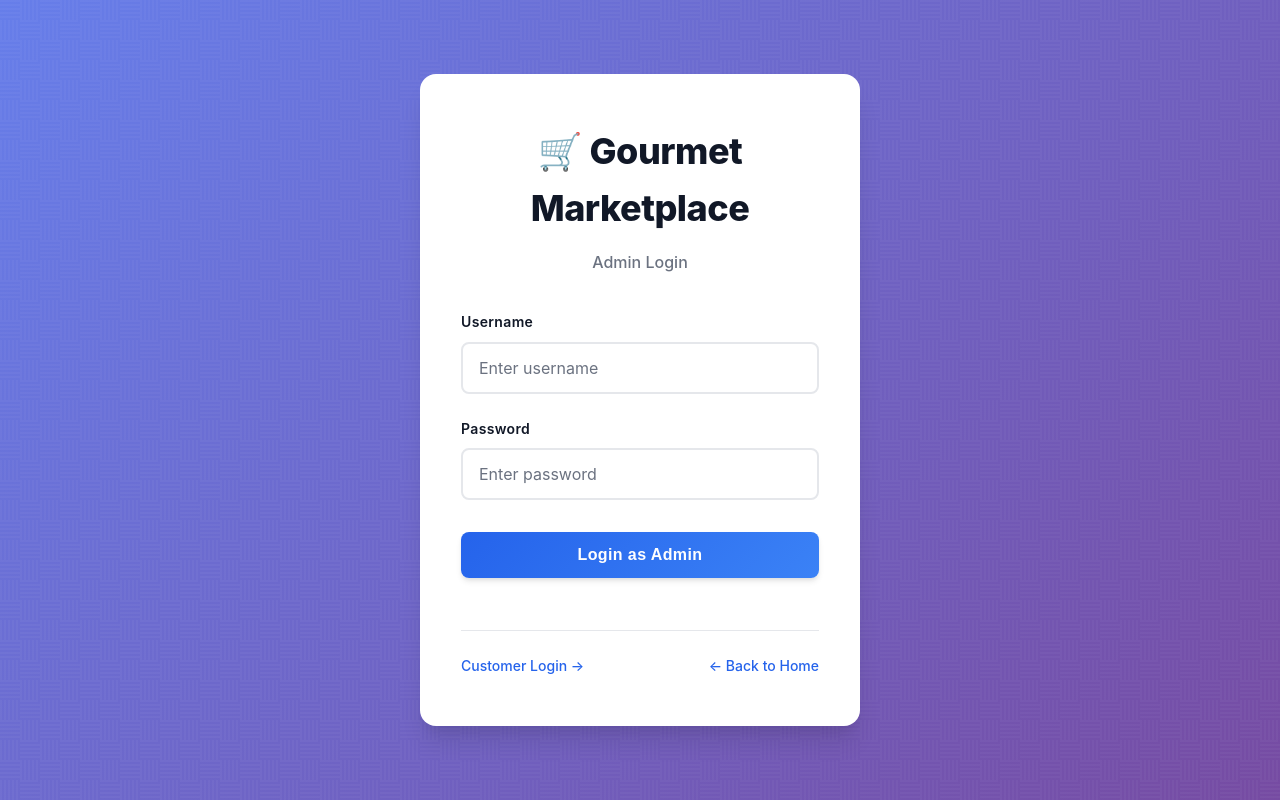
AdminLogin Component › should show error on failed login
Type "test" into the field with placeholder "Enter username". click: point(640, 368)
box: [461,342,819,394]
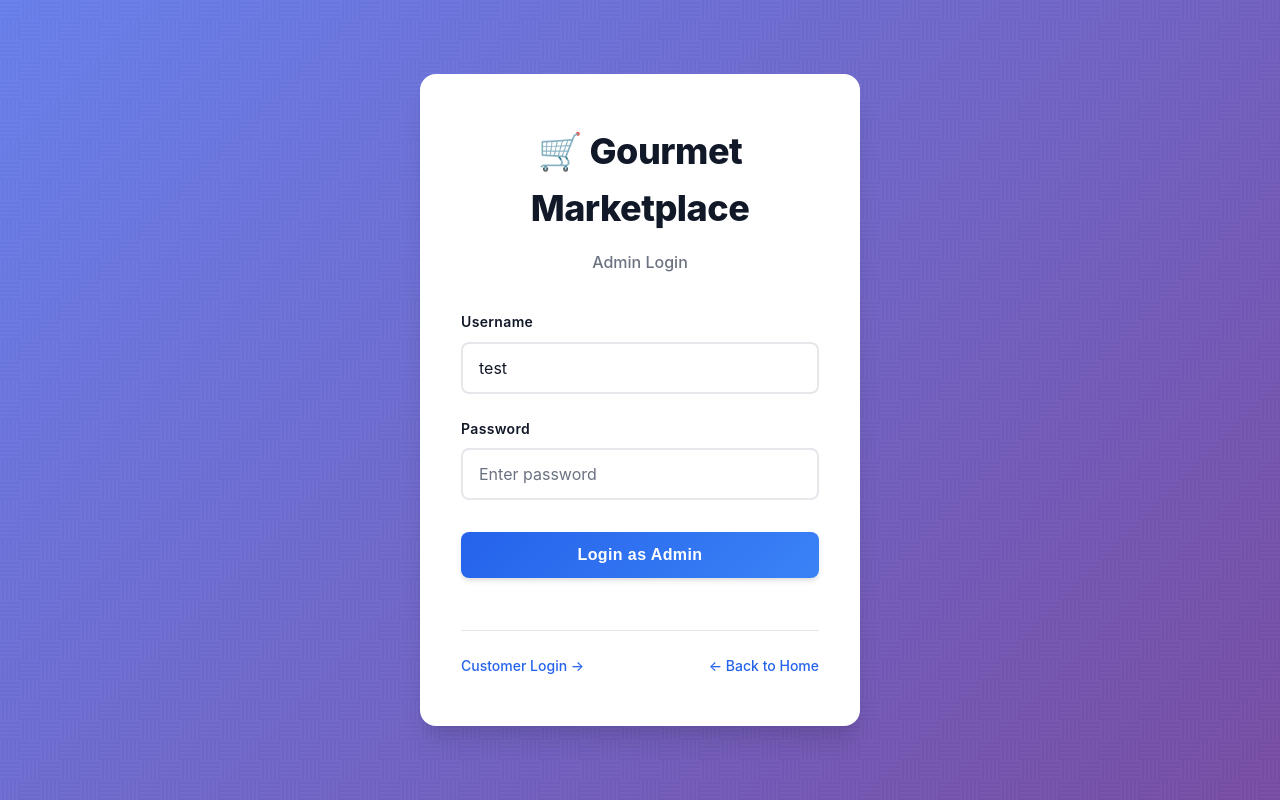
Type "wrong" into the password field with placeholder "Enter password". click: point(640, 474)
box: [461,448,819,500]
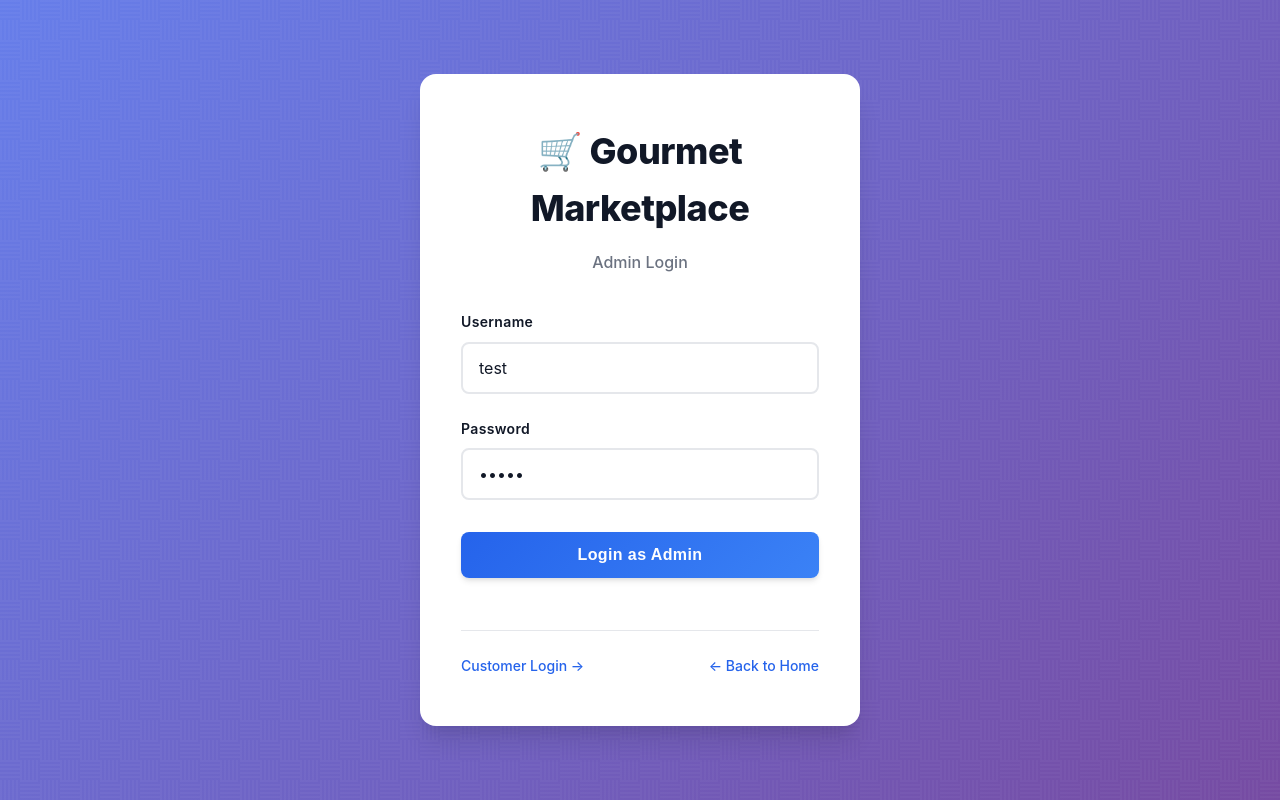
Click the button "Login as Admin". click: point(640, 555)
box: [461,532,819,578]
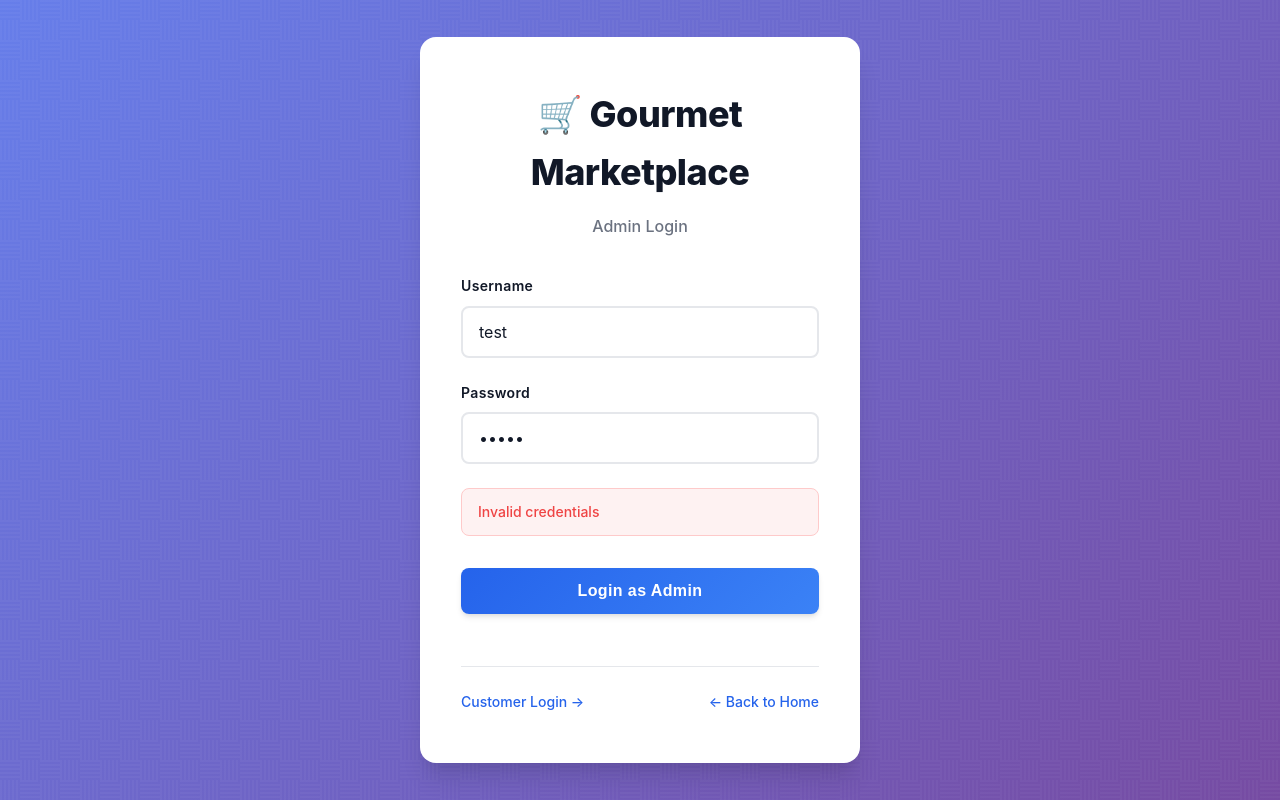
Result: the text "Invalid credentials" is shown at [461,488,819,536]
